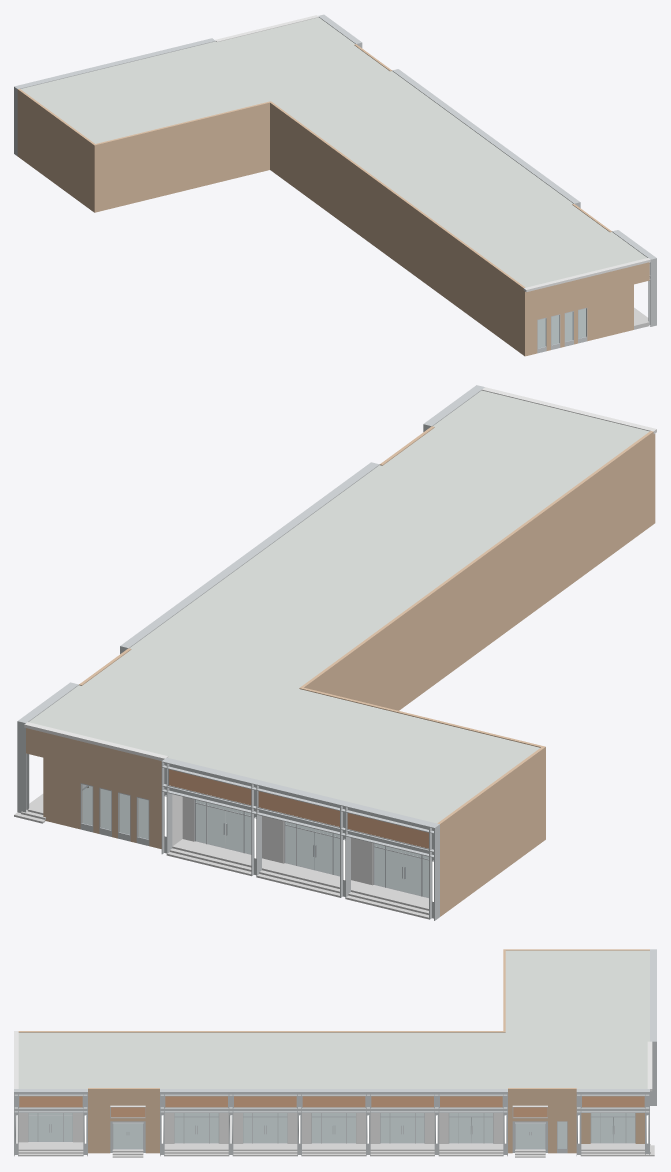
File: rail1.glb
3 renders of one model, top to bottom at view 1: azimuth 30°, elevation 25°; view 2: azimuth 150°, elevation 25°; view 3: azimuth 270°, elevation 25°, orthographic. The views are drawn at different scales.
Visible parts, largest first — view 1: 3DXY_geometry_138, 3DXY_geometry_137, 3DXY_geometry_132, 3DXY_geometry_134, 3DXY_geometry_136; view 2: 3DXY_geometry_138, 3DXY_geometry_137, 3DXY_geometry_132, 3DXY_geometry_136, 3DXY_geometry_135, 3DXY_geometry_134, 3DXY_geometry_130; view 3: 3DXY_geometry_138, 3DXY_geometry_132, 3DXY_geometry_136, 3DXY_geometry_137, 3DXY_geometry_135, 3DXY_geometry_130, 3DXY_geometry_134, 3DXY_geometry_133.
Boxes of the visible parts, x1,y1,x2,y2 form: 3DXY_geometry_138: (20, 17, 646, 347); 3DXY_geometry_137: (17, 44, 649, 356); 3DXY_geometry_132: (14, 14, 656, 353); 3DXY_geometry_134: (215, 15, 650, 292); 3DXY_geometry_136: (538, 308, 586, 348); 3DXY_geometry_138: (29, 390, 649, 897); 3DXY_geometry_137: (26, 426, 655, 916); 3DXY_geometry_132: (17, 385, 484, 920); 3DXY_geometry_136: (81, 784, 428, 897); 3DXY_geometry_135: (14, 784, 428, 919); 3DXY_geometry_134: (24, 387, 656, 885); 3DXY_geometry_130: (169, 769, 428, 848); 3DXY_geometry_138: (18, 950, 649, 1148); 3DXY_geometry_132: (14, 949, 656, 1156); 3DXY_geometry_136: (28, 1113, 634, 1149); 3DXY_geometry_137: (18, 949, 649, 1153); 3DXY_geometry_135: (18, 1141, 654, 1157); 3DXY_geometry_130: (19, 1096, 644, 1117); 3DXY_geometry_134: (14, 1031, 652, 1143); 3DXY_geometry_133: (16, 1115, 648, 1143).
Bounding box in the file's own units: 577 × 120 × 1087.
